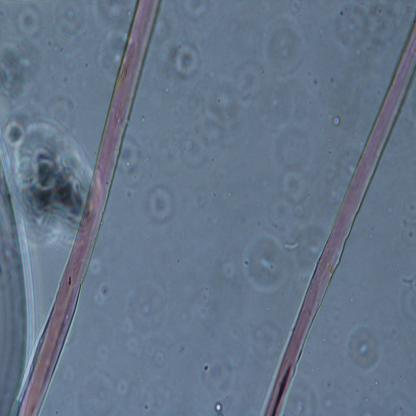Air bubble: (0, 151, 32, 414)
Background material: (0, 107, 95, 235), (183, 61, 262, 167), (236, 229, 290, 295), (90, 0, 137, 72), (193, 340, 244, 394), (336, 3, 398, 47), (270, 162, 306, 232), (265, 18, 307, 70), (126, 284, 167, 333), (293, 218, 331, 270), (347, 322, 384, 372), (0, 55, 32, 112), (115, 134, 148, 189), (80, 371, 119, 416), (271, 83, 307, 125), (145, 184, 179, 226), (169, 41, 207, 78), (131, 381, 171, 415), (252, 320, 285, 358), (399, 274, 416, 343), (14, 4, 46, 40), (278, 130, 310, 165), (52, 0, 90, 29), (288, 385, 319, 416), (123, 335, 148, 372), (383, 389, 416, 416), (178, 0, 210, 22), (398, 214, 416, 247), (94, 282, 115, 306), (220, 254, 235, 283), (402, 194, 416, 218), (281, 239, 301, 253), (117, 378, 130, 398), (175, 342, 188, 356), (213, 401, 225, 416), (153, 350, 165, 364), (331, 115, 342, 129), (310, 74, 320, 89)
Microfibre: (262, 15, 416, 414), (16, 0, 164, 414)
